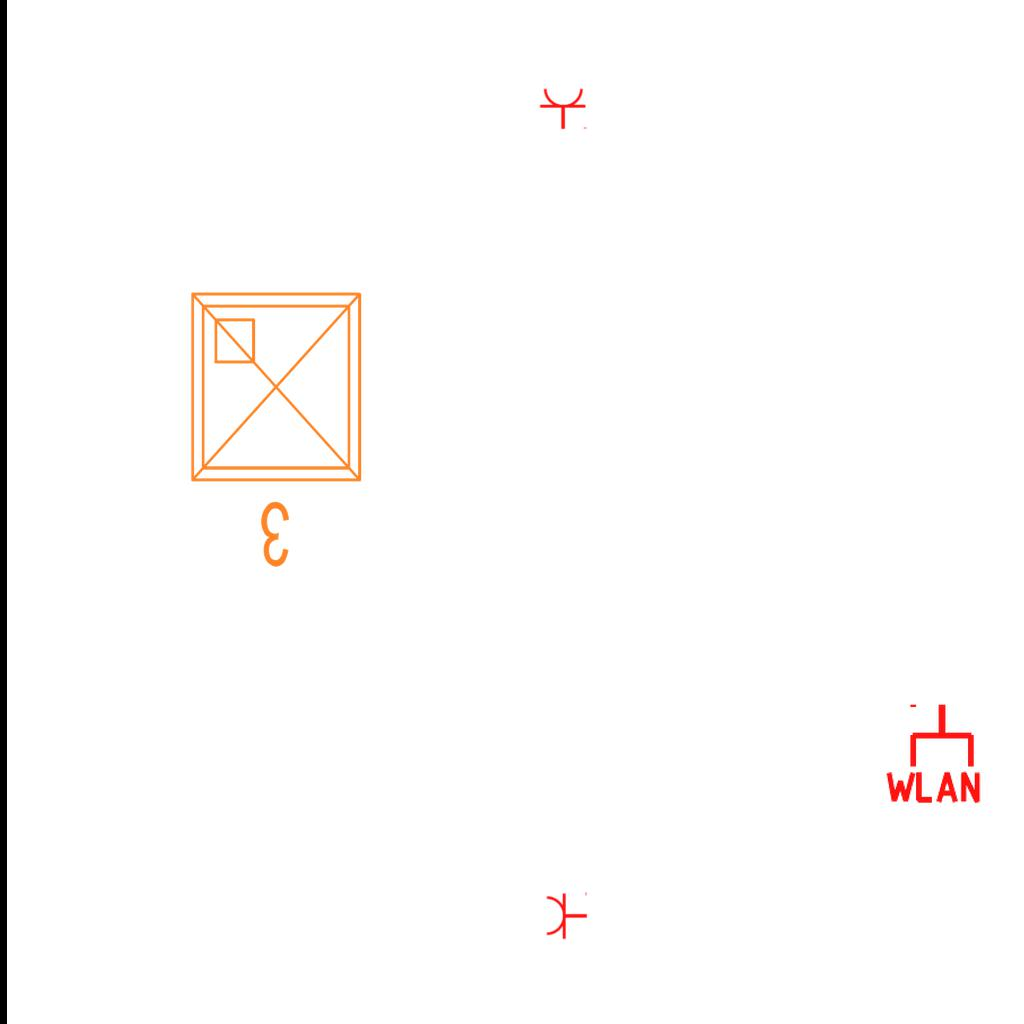Einbaudownlights_LED_Konferenzraeume: (176, 278, 384, 578)
Schukosteckdose_einfach: (545, 890, 588, 940), (539, 87, 589, 130)
WLAN: (881, 700, 985, 805)
